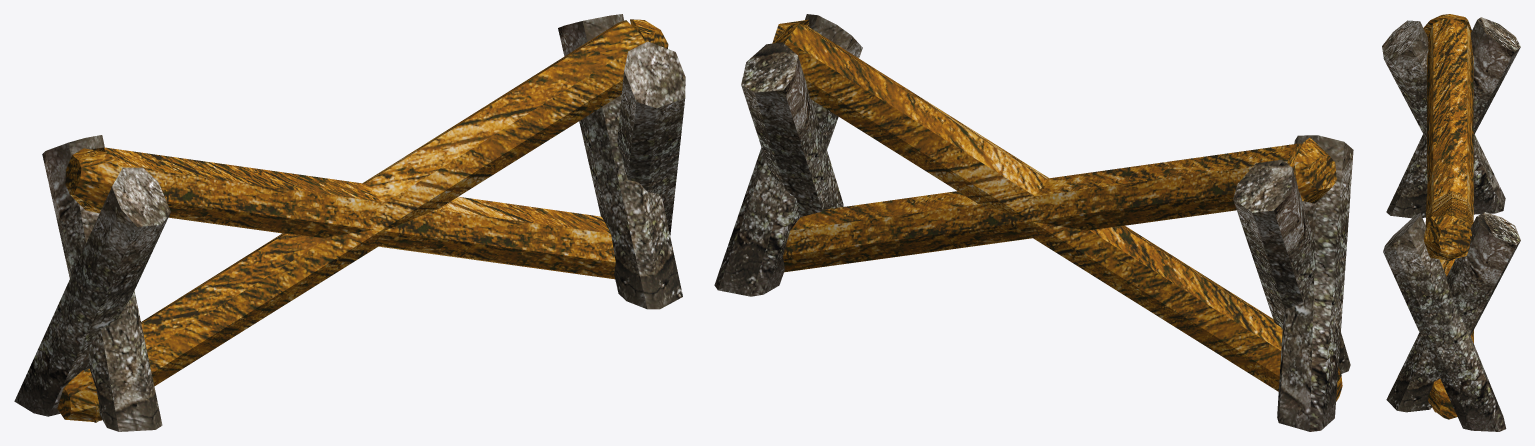
File: fence5.glb
3 views of the same model, side by side, from view 1: azimuth 30°, elevation 25°; view 2: azimuth 150°, elevation 25°; view 3: azimuth 270°, elevation 25° (orthographic). The views are drawn at different scales.
Parts seen in each view (by area): view 1: fence5; view 2: fence5; view 3: fence5.
Boxes of the visible parts, x1,y1,x2,y2 form: fence5: (14, 14, 685, 431); fence5: (714, 14, 1353, 431); fence5: (1382, 14, 1520, 431).
Size of the model in its own units: 8.13 by 3.3 by 2.04.
2 materials, 2 textured.
